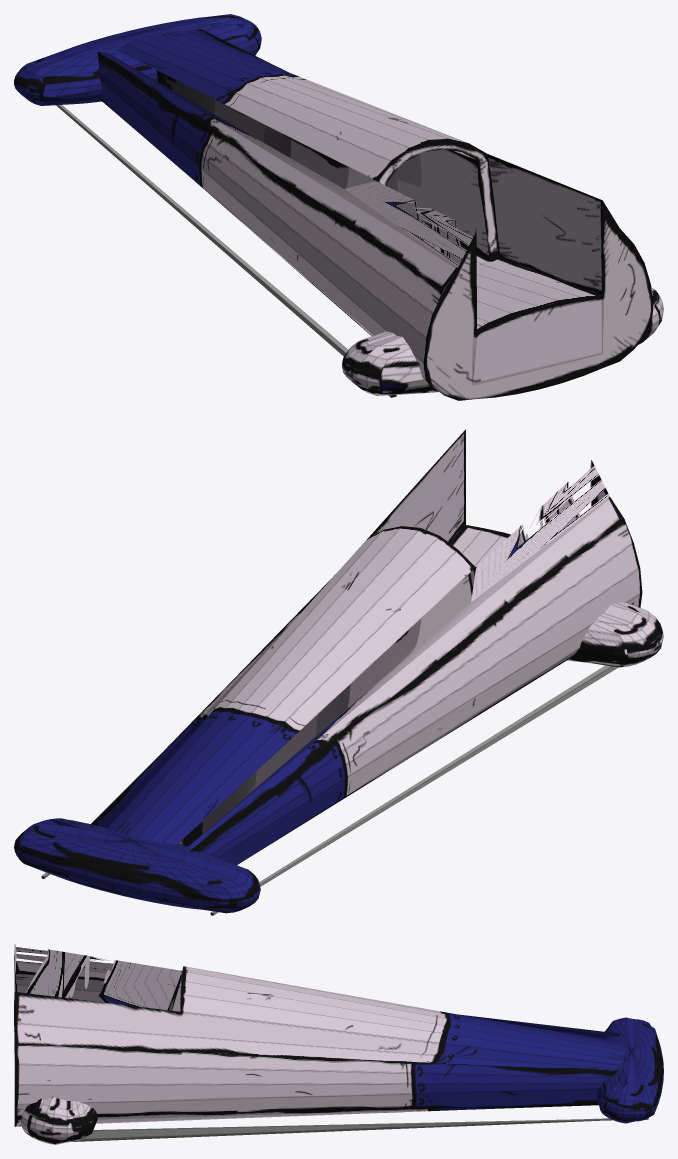
Rendered from monobobfbx.fbx.
3 views of the same model, one above another, from view 1: azimuth 30°, elevation 25°; view 2: azimuth 150°, elevation 25°; view 3: azimuth 270°, elevation 25° (orthographic). The views are drawn at different scales.
Visible parts, largest first — view 1: Cylinder.001; view 2: Cylinder.001; view 3: Cylinder.001.
Boxes of the visible parts, box(x1,y1,x2,y2) form: Cylinder.001: box(14, 14, 663, 400); Cylinder.001: box(14, 429, 663, 915); Cylinder.001: box(14, 944, 663, 1144).
Bounding box in the file's own units: 271 × 148 × 636.
Materials: 1 (1 with a texture image).
